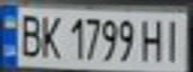1: (63, 13, 84, 60)
7: (81, 15, 103, 61)
9: (115, 16, 139, 63), (100, 16, 121, 62)
B: (15, 10, 45, 58)
H: (139, 16, 166, 63)
I: (157, 15, 187, 62)
K: (36, 11, 63, 60)
